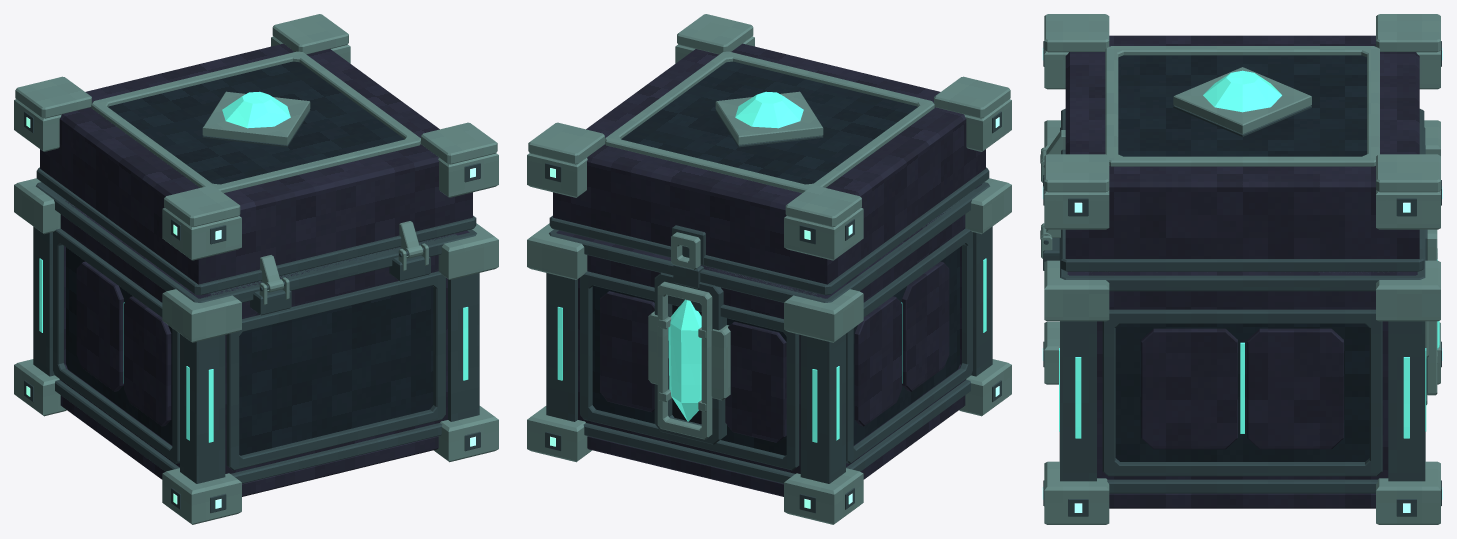
The model's file is relic.glb.
3 renders of one model, left to right at view 1: azimuth 30°, elevation 25°; view 2: azimuth 150°, elevation 25°; view 3: azimuth 270°, elevation 25°, orthographic. The views are drawn at different scales.
Visible parts, largest first — view 1: Body.Edge, LidAssembly.Shell, Body.Panel, LidAssembly.Metal, Body.Shell, LidAssembly.Panel, Body.Metal, LidAssembly.Edge, LidAssembly.Crystal, Body.Crystal; view 2: Body.Edge, LidAssembly.Shell, Body.Shell, LidAssembly.Metal, Body.Metal, LidAssembly.Panel, LidAssembly.Edge, Body.Panel, Body.Crystal, LidAssembly.Crystal; view 3: LidAssembly.Shell, Body.Shell, Body.Edge, LidAssembly.Metal, LidAssembly.Panel, Body.Metal, Body.Panel, LidAssembly.Edge, LidAssembly.Crystal, Body.Crystal.
Boxes of the visible parts, x1,y1,x2,y2 form: Body.Edge: (24,182,480,513); LidAssembly.Shell: (40,43,472,284); Body.Panel: (66,247,433,455); LidAssembly.Metal: (14,14,498,292); Body.Shell: (59,198,469,496); LidAssembly.Panel: (108,61,404,184); Body.Metal: (14,178,498,524); LidAssembly.Edge: (24,110,480,295); LidAssembly.Crystal: (222,91,290,128); Body.Crystal: (39,258,468,442); Body.Edge: (545,182,1001,513); LidAssembly.Shell: (553,43,985,284); Body.Shell: (556,184,981,496); LidAssembly.Metal: (527,14,1011,269); Body.Metal: (527,178,1011,524); LidAssembly.Panel: (621,61,917,184); LidAssembly.Edge: (545,110,1001,295); Body.Panel: (592,247,959,455); Body.Crystal: (557,258,986,442); LidAssembly.Crystal: (735,91,803,128); LidAssembly.Shell: (1065,35,1419,258); Body.Shell: (1067,271,1417,508); Body.Edge: (1043,127,1441,516); LidAssembly.Metal: (1040,14,1440,239); LidAssembly.Panel: (1118,55,1366,156); Body.Metal: (1041,120,1440,524); Body.Panel: (1115,323,1369,461); LidAssembly.Edge: (1043,41,1441,271); LidAssembly.Crystal: (1203,70,1281,112); Body.Crystal: (1059,259,1439,438).
Size of the model in its own units: 0.9737 by 0.9803 by 0.9794.
7 materials, 7 textured.
